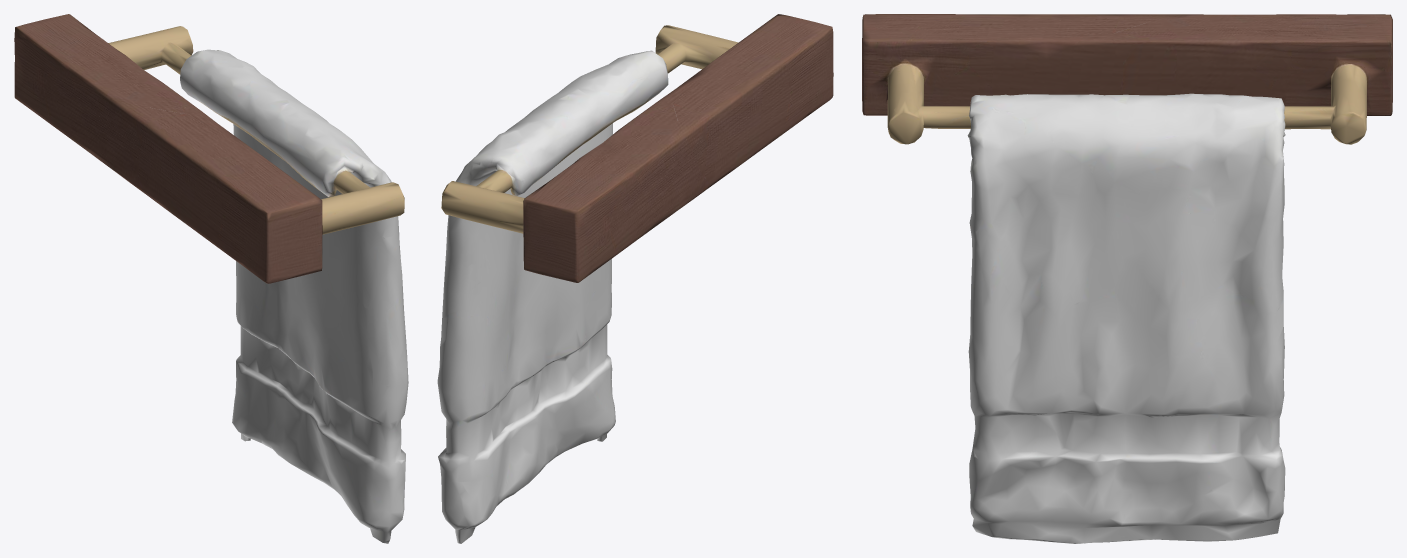
The model's file is b_towel.glb.
The picture shows the model from 3 angles, left to right: view 1: azimuth 30°, elevation 25°; view 2: azimuth 150°, elevation 25°; view 3: azimuth 270°, elevation 25°; orthographic projection. The views are drawn at different scales.
Visible parts, largest first — view 1: tripo_node_accacd41-3c18-4de6-8d24-86dc0af87f47; view 2: tripo_node_accacd41-3c18-4de6-8d24-86dc0af87f47; view 3: tripo_node_accacd41-3c18-4de6-8d24-86dc0af87f47.
Part boxes in pixels (x1,y1,x2,y2): tripo_node_accacd41-3c18-4de6-8d24-86dc0af87f47: (14, 14, 408, 543); tripo_node_accacd41-3c18-4de6-8d24-86dc0af87f47: (437, 14, 833, 543); tripo_node_accacd41-3c18-4de6-8d24-86dc0af87f47: (862, 14, 1392, 543).
Size of the model in its own units: 0.4752 by 0.8957 by 1.
Materials: 1 (1 with a texture image).
